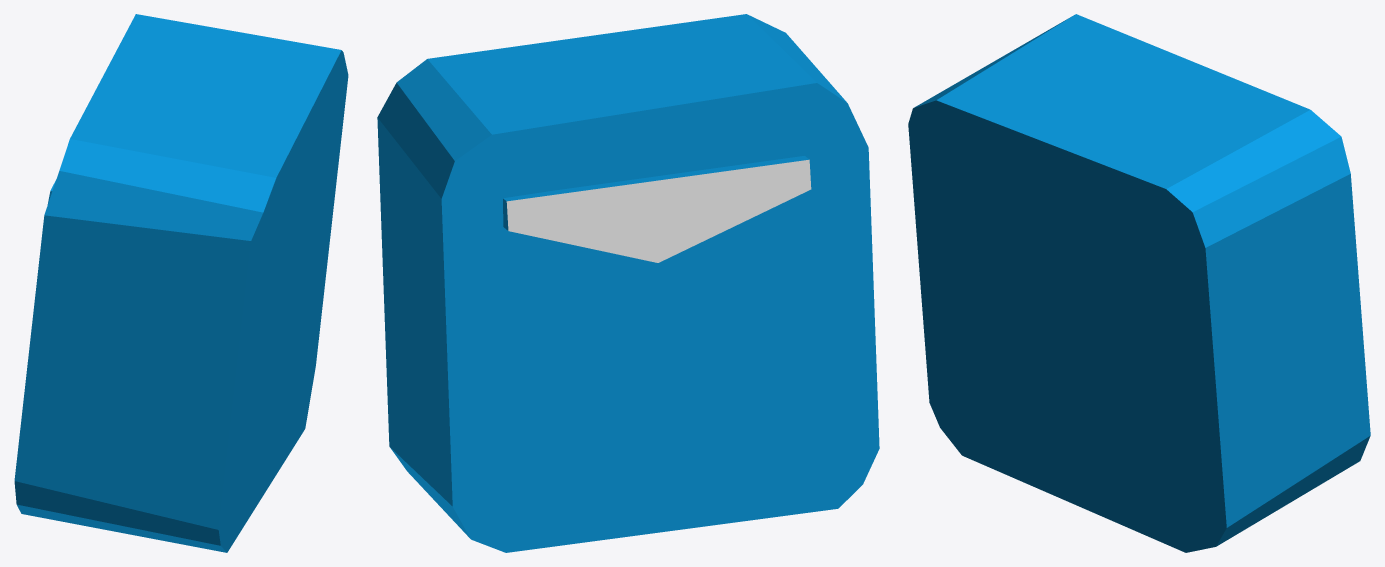
The model's file is blueblock.fbx.
3 views of the same model, side by side, from view 1: azimuth 30°, elevation 25°; view 2: azimuth 150°, elevation 25°; view 3: azimuth 270°, elevation 25° (orthographic). The views are drawn at different scales.
Visible parts, largest first — view 1: group_275115095; view 2: group_275115095; view 3: group_275115095.
Part boxes in pixels (x1=…): group_275115095: x1=14, y1=14, x2=348, y2=552; group_275115095: x1=377, y1=14, x2=879, y2=552; group_275115095: x1=908, y1=14, x2=1370, y2=552.
Bounding box in the file's own units: 20.12 × 19.27 × 20.28.
